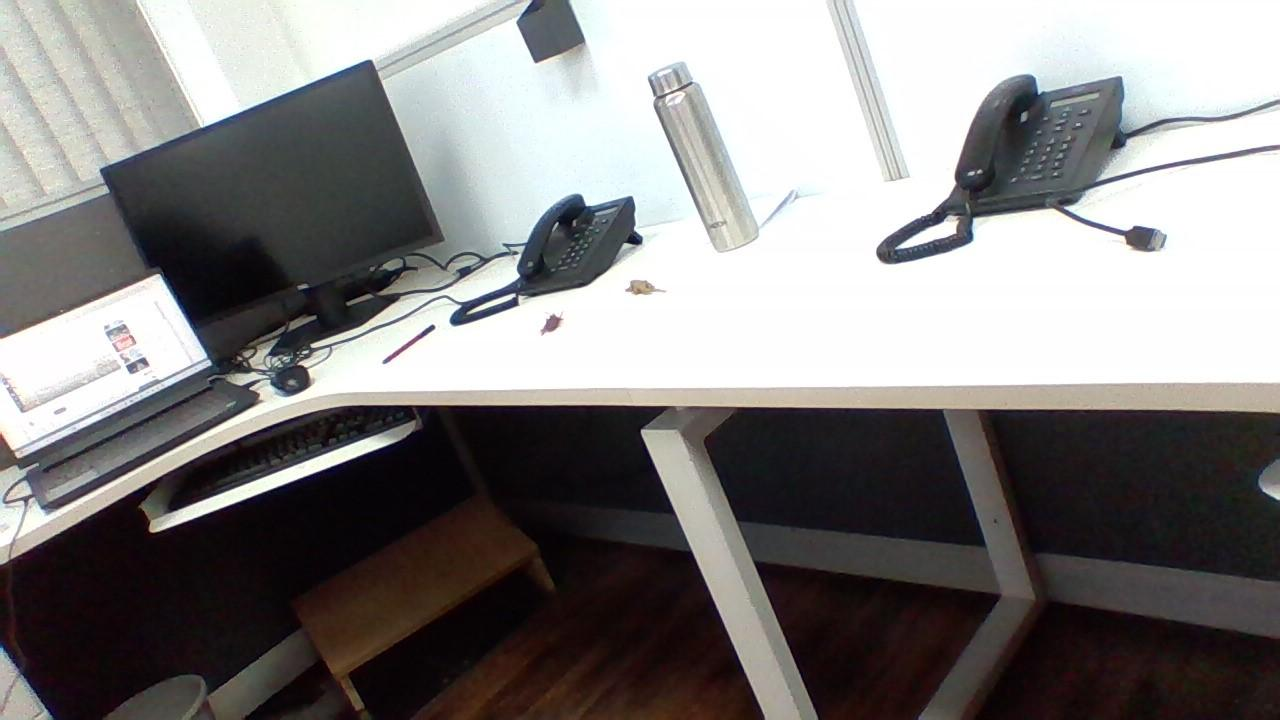cockroach: (535, 303, 562, 336)
lizard: (615, 272, 670, 303)
